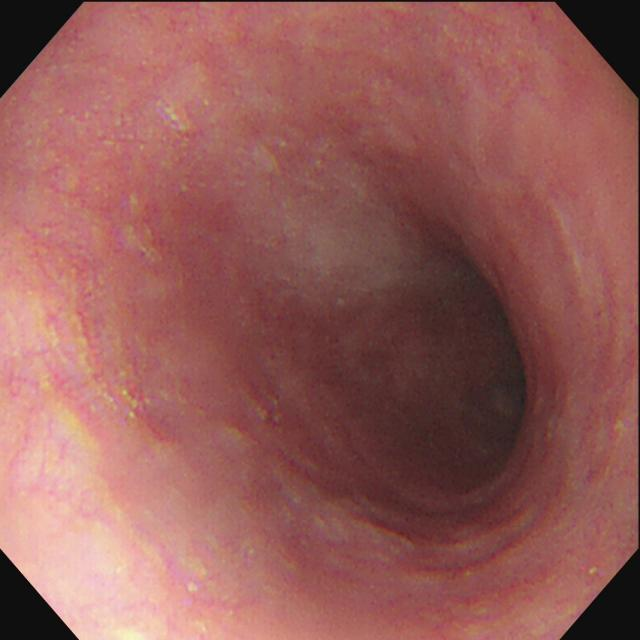E: (443, 273, 569, 507)
J: (258, 161, 461, 306)
